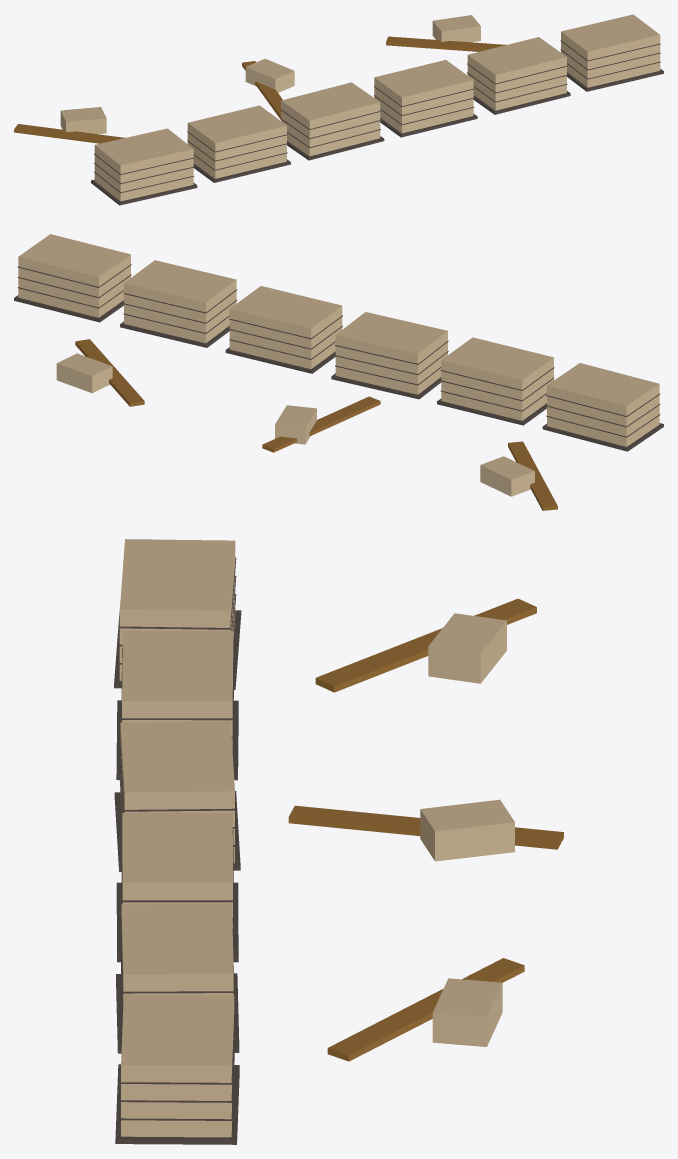
The model's file is SM_AcopioMateriales_v2_Vacio_LOD0.fbx.
The picture shows the model from 3 angles, top to bottom: view 1: azimuth 30°, elevation 25°; view 2: azimuth 150°, elevation 25°; view 3: azimuth 270°, elevation 25°; orthographic projection. The views are drawn at different scales.
Parts seen in each view (by area): view 1: SM_acopio_carga_v12_LOD0; view 2: SM_acopio_carga_v12_LOD0; view 3: SM_acopio_carga_v12_LOD0.
Part boxes in pixels (x1=…): SM_acopio_carga_v12_LOD0: x1=14, y1=14, x2=663, y2=205; SM_acopio_carga_v12_LOD0: x1=14, y1=234, x2=663, y2=510; SM_acopio_carga_v12_LOD0: x1=114, y1=539, x2=563, y2=1144.
Bounding box in the file's own units: 9.2 × 0.615 × 3.26.
